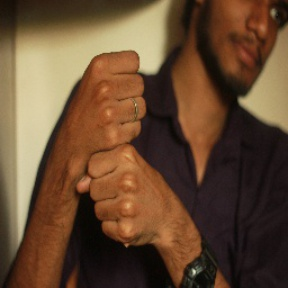G: (55, 44, 169, 247)
